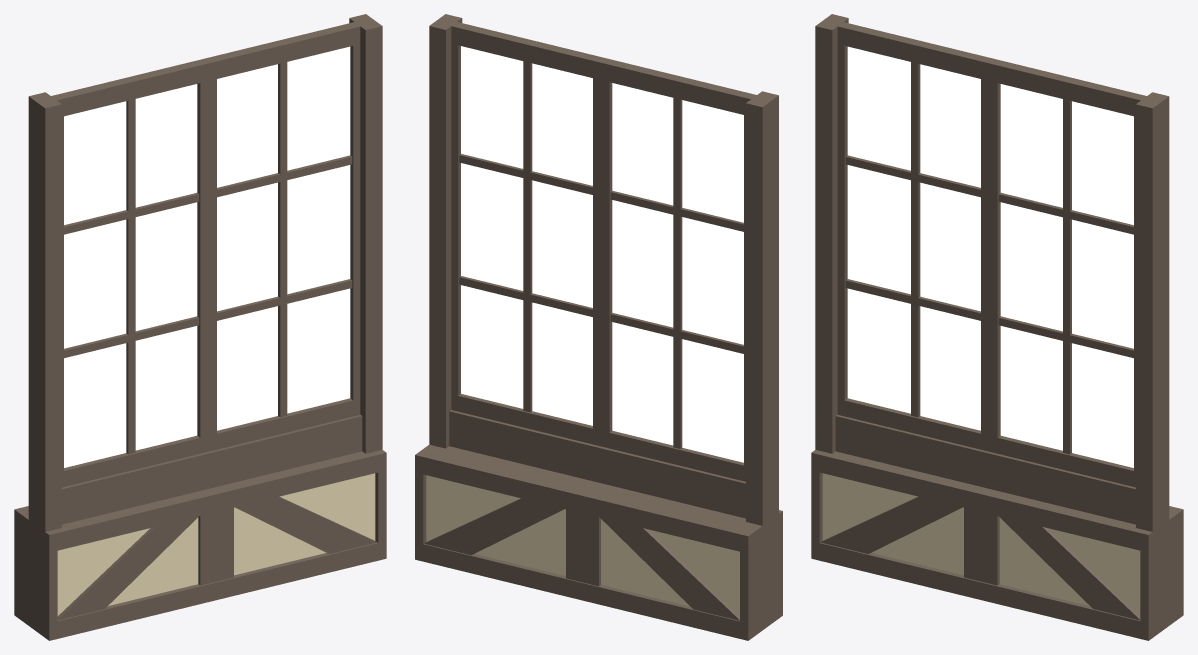
Rendered from rotatingdoor.glb.
3 renders of one model, left to right at view 1: azimuth 30°, elevation 25°; view 2: azimuth 150°, elevation 25°; view 3: azimuth 330°, elevation 25°, orthographic.
Visible parts, largest first — view 1: wall_2_window; view 2: wall_2_window; view 3: wall_2_window.
Part boxes in pixels (x1=…): wall_2_window: x1=14, y1=14, x2=386, y2=640; wall_2_window: x1=415, y1=14, x2=782, y2=640; wall_2_window: x1=811, y1=14, x2=1183, y2=640.
Bounding box in the file's own units: 2 × 3 × 0.36.
